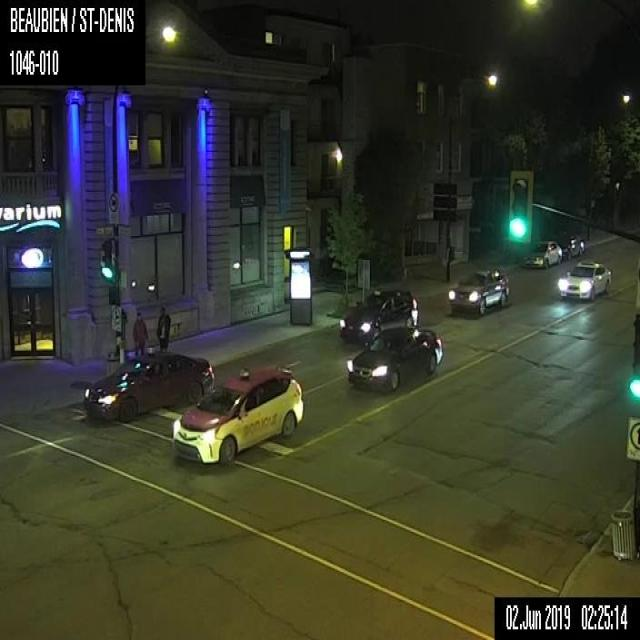pedestrian: (132, 310, 147, 357), (156, 306, 170, 352)
vehicle: (172, 365, 304, 465), (83, 352, 214, 422), (345, 326, 442, 390), (339, 288, 418, 344), (447, 266, 509, 314), (557, 258, 611, 300), (524, 240, 562, 268), (556, 232, 579, 259), (578, 232, 588, 255)
